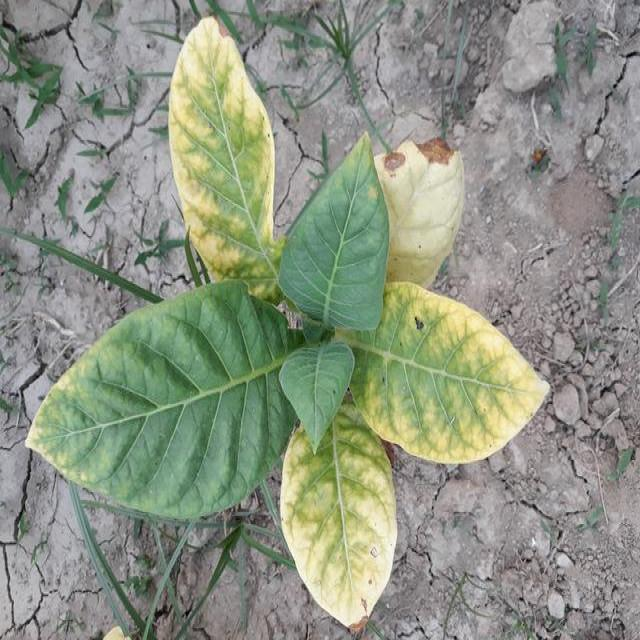crop: (38, 19, 544, 614)
